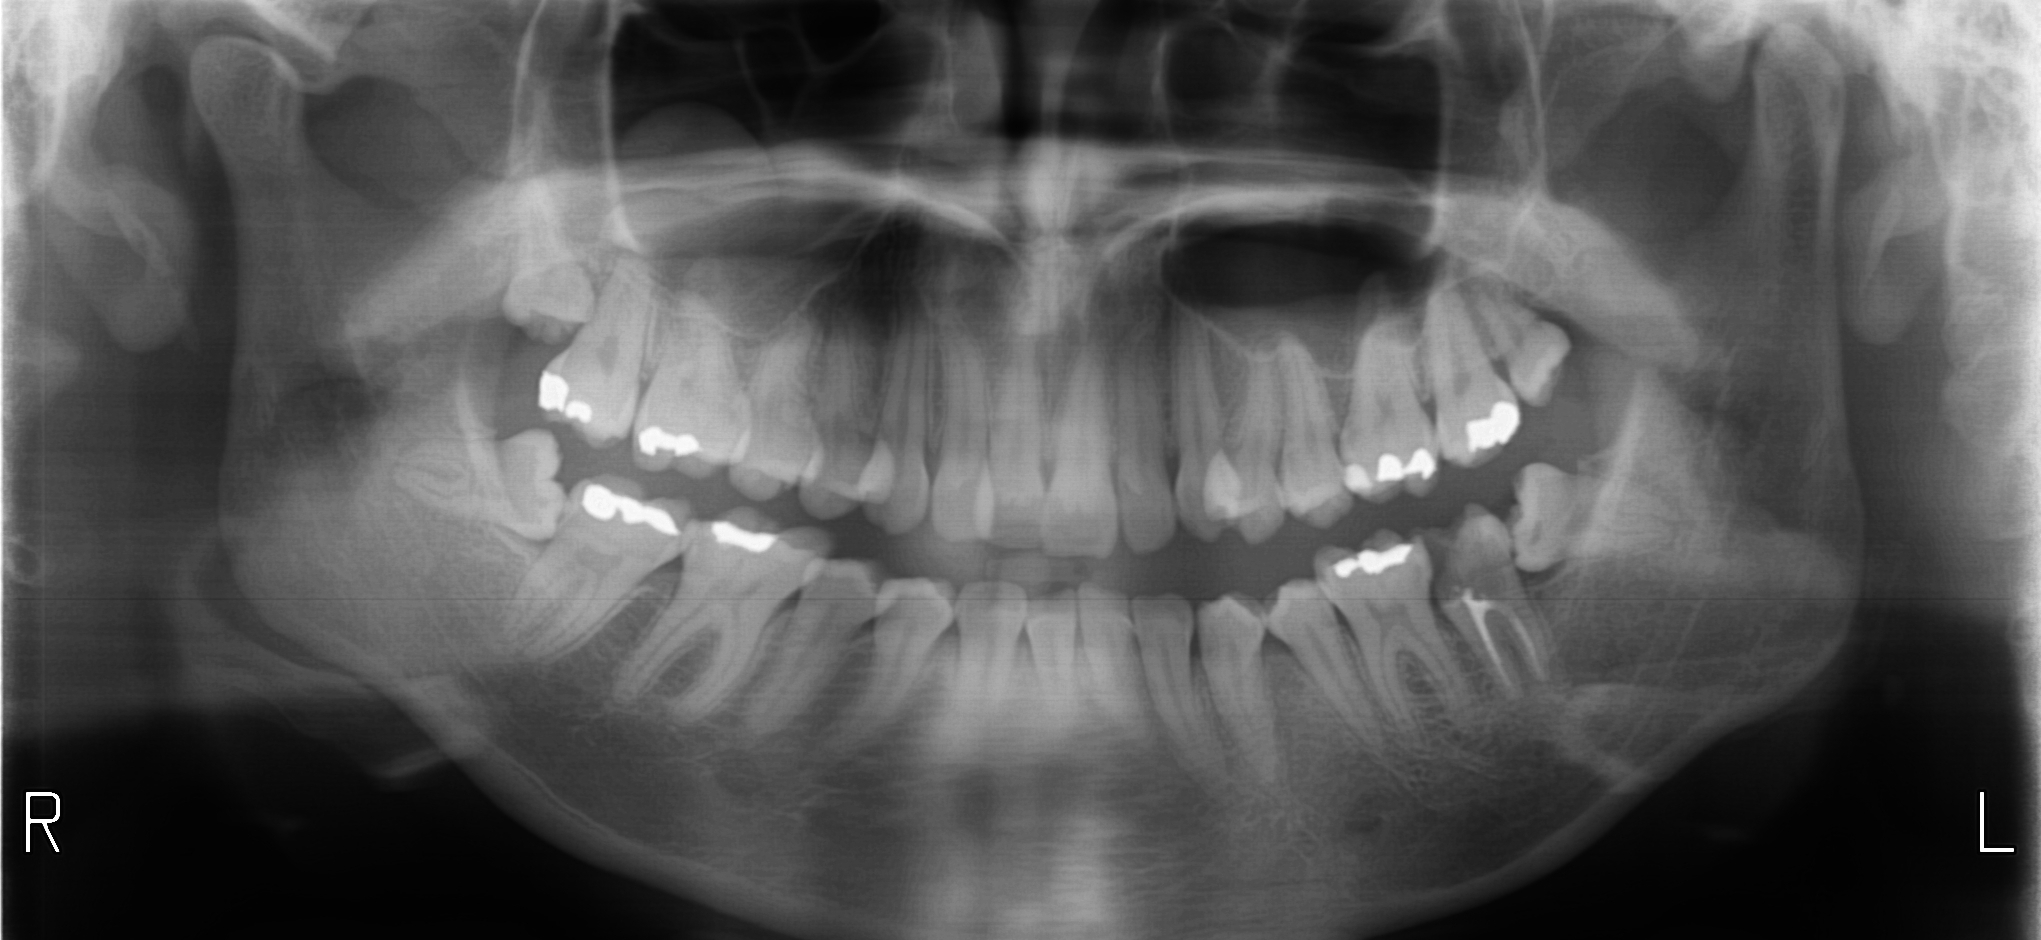cavity: (1427, 521, 1505, 596), (836, 417, 873, 480)
